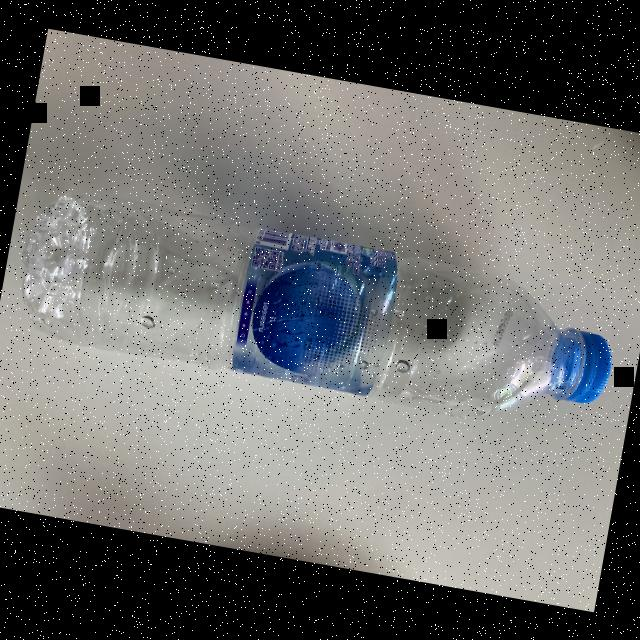plastic_bottle: (3, 180, 627, 446)
plastic_bottle_cap: (540, 322, 616, 409)
